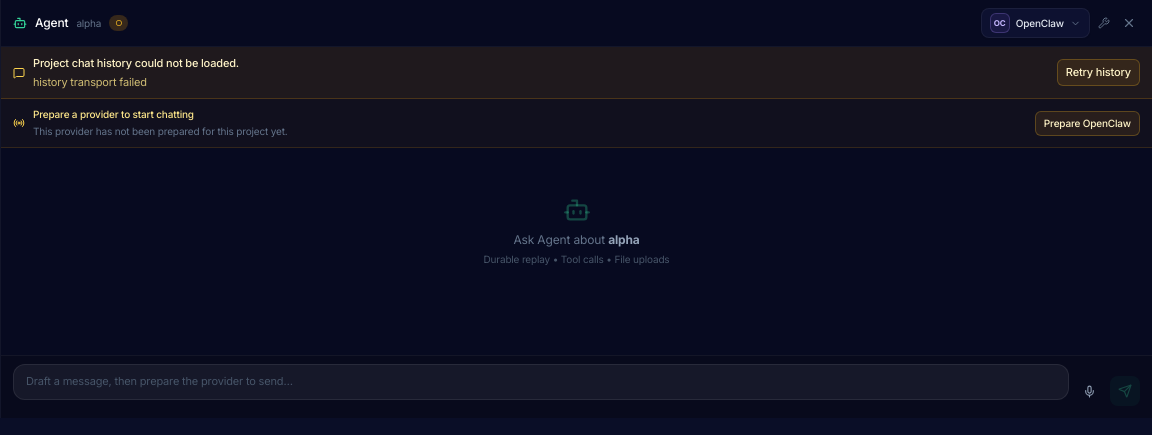
Test: ProjectChatPanel rendered provider contract › surfaces and retries a failed cold-open transcript without preparing an unqualified provider
The image size is (1152, 435).
Expected: the text "Project chat history could not be loaded." is shown, [33,56,239,70]
Expected: the text "history transport failed" is shown, [33,74,147,88]
Click the button with aria-label "Retry project chat history": (1098, 73) [1057,59,1140,86]
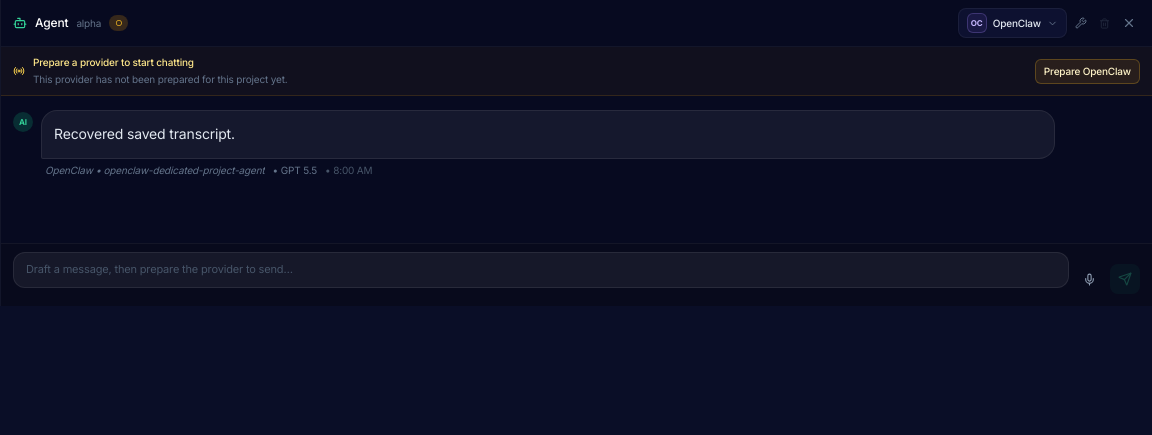
Now the text "Recovered saved transcript." is shown, box [54,125,235,142]
